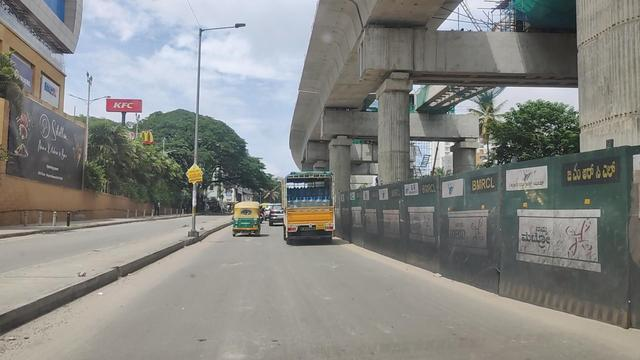HMV: (276, 170, 338, 250)
LMV: (228, 201, 260, 238)
